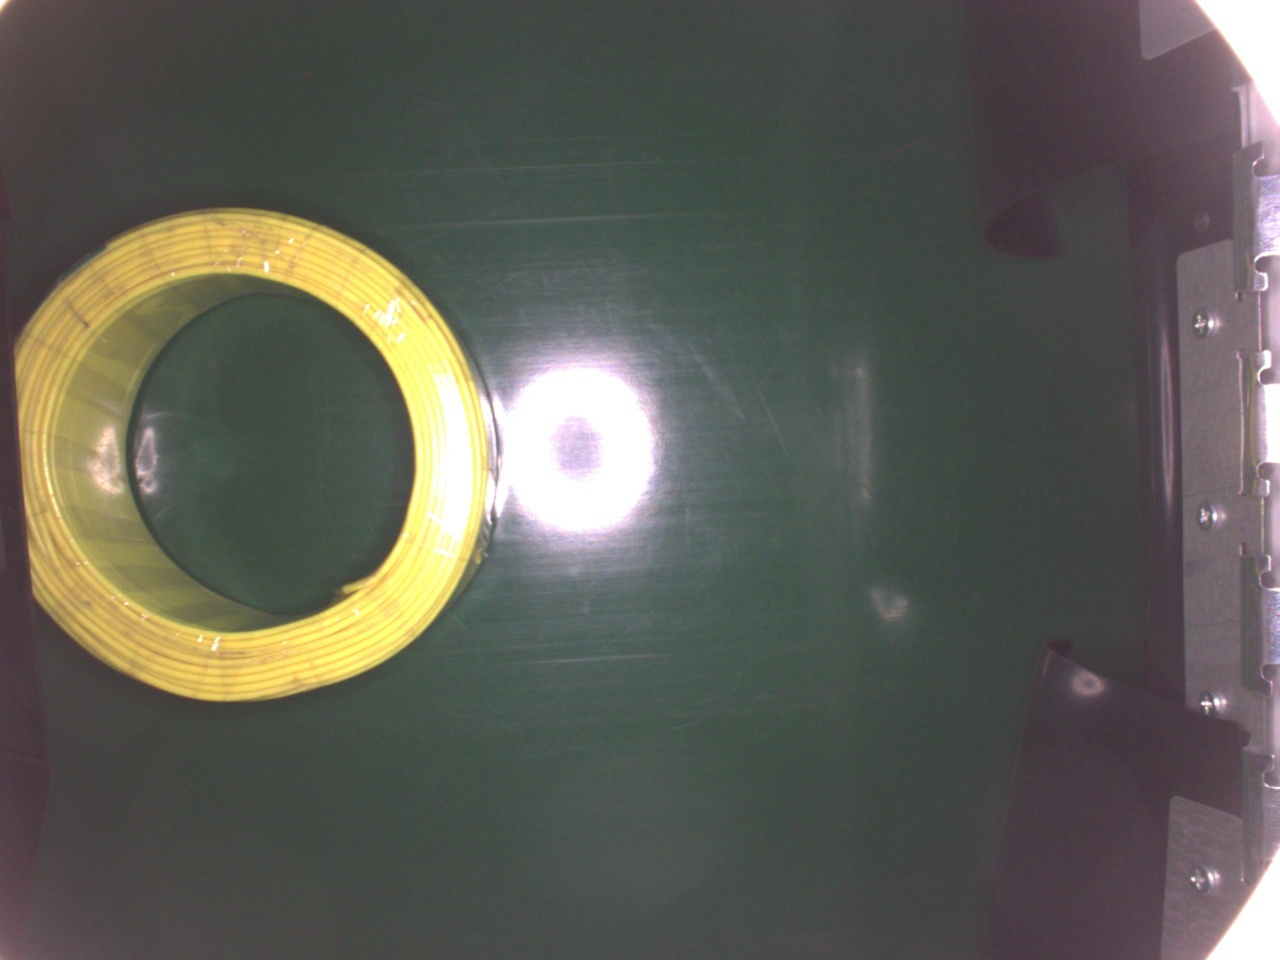yellow: (12, 205, 500, 704)
